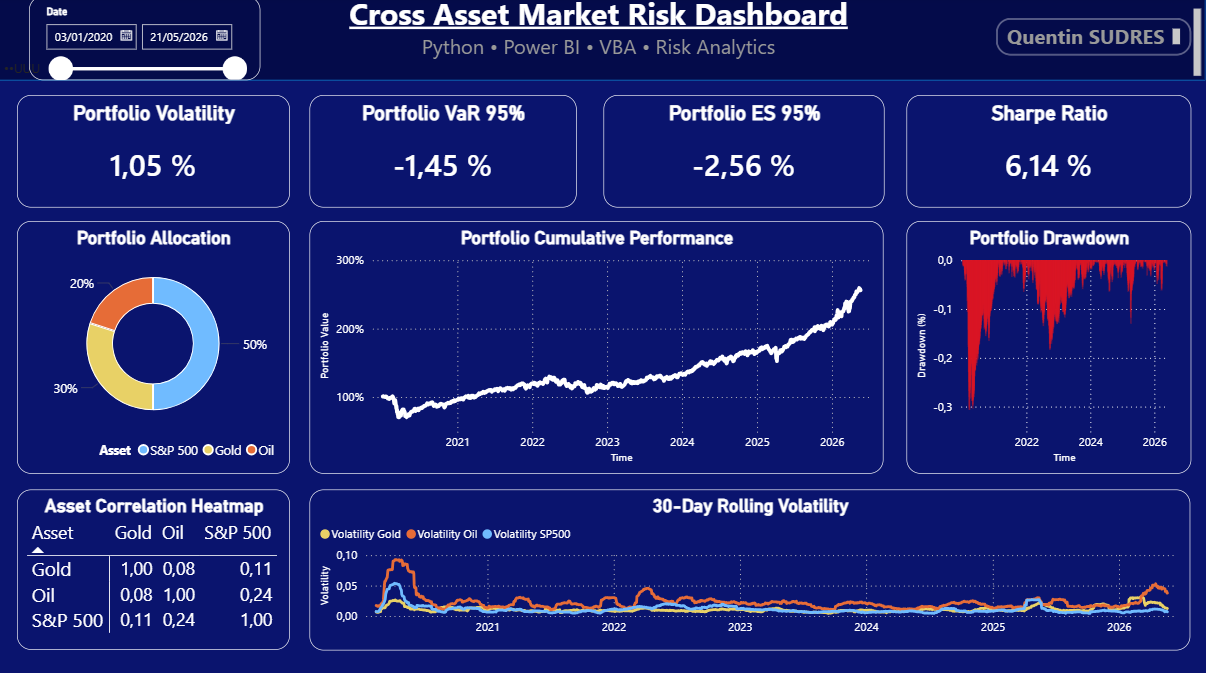

The dashboard page shown, as its layout file describes it:
{"tool":"powerbi","page":{"name":"Market Risk Dashboard","canvas":[1280,720],"ordinal":0},"visuals":[{"type":"lineChart","title":"Portfolio Cumulative Performance","fields":{"Category":["Portfolio_Cumulative.Date"],"Y":["Portfolio_Cumulative.Portfolio_Measure"]},"box":[329.9,238.4,608.8,268.2],"z":0},{"type":"shape","box":[0,0,1279.6,89.8],"z":1000},{"type":"textbox","box":[0,0,1279.6,89.8],"z":2000},{"type":"cardVisual","title":"Portfolio Volatility","fields":{"Data":["Sum(Portfolio_Metrics.Value)"]},"box":[19.2,104.3,289.5,119.2],"z":3000},{"type":"cardVisual","title":"Portfolio VaR 95%","fields":{"Data":["Sum(Portfolio_Metrics.Value)"]},"box":[329.9,104.3,283.1,119.2],"z":4000},{"type":"cardVisual","title":"Portfolio ES 95%","fields":{"Data":["Sum(Portfolio_Metrics.Value)"]},"box":[640.7,104.3,298,119.2],"z":5000},{"type":"cardVisual","title":"Sharpe Ratio","fields":{"Data":["Sum(Portfolio_Metrics.Value)"]},"box":[962.1,104.3,302.3,119.2],"z":6000},{"type":"pivotTable","title":"Asset Correlation Heatmap","fields":{"Values":["Sum(Correlations.Gold)","Sum(Correlations.Oil)","Sum(Correlations.SP500)"],"Rows":["Correlations.Actifs"],"Columns":["Correlations.Actifs"]},"box":[19.2,523.6,289.5,170.3],"z":7000},{"type":"lineChart","title":"30-Day Rolling Volatility","fields":{"Category":["Rolling_Volatility.Date"],"Y":["Sum(Rolling_Volatility.Gold)","Sum(Rolling_Volatility.Oil)","Sum(Rolling_Volatility.SP500)"]},"box":[329.5,522.7,934.1,170.5],"z":8000},{"type":"donutChart","title":"Portfolio Allocation","fields":{"Category":["Portfolio_Weights.Asset"],"Y":["Sum(Portfolio_Weights.Weight)"]},"box":[19,238,289,268],"z":8001},{"type":"clusteredColumnChart","title":"Portfolio Drawdown","fields":{"Category":["Portfolio_Drawdown.Date"],"Y":["Sum(Portfolio_Drawdown.Portfolio_Drawdown)"]},"box":[962,238,302,268],"z":8002},{"type":"slicer","fields":{"Values":["Portfolio_Cumulative.Date"]},"box":[32.5,0,245.5,89.6],"z":8003},{"type":"textbox","box":[1057.7,23.1,205.8,38.5],"z":8004}]}

Visuals, with their boxes in screenshot pixels (x1, y1, x2, y2), scaled from the page's 1280x720 canvas onto the 1206x673 screenshot:
"Portfolio Cumulative Performance" lineChart: region(311, 223, 884, 474)
shape: region(0, 0, 1205, 84)
textbox: region(0, 0, 1205, 84)
"Portfolio Volatility" cardVisual: region(18, 97, 291, 209)
"Portfolio VaR 95%" cardVisual: region(311, 97, 578, 209)
"Portfolio ES 95%" cardVisual: region(604, 97, 884, 209)
"Sharpe Ratio" cardVisual: region(906, 97, 1191, 209)
"Asset Correlation Heatmap" pivotTable: region(18, 489, 291, 649)
"30-Day Rolling Volatility" lineChart: region(310, 489, 1191, 648)
"Portfolio Allocation" donutChart: region(18, 222, 290, 473)
"Portfolio Drawdown" clusteredColumnChart: region(906, 222, 1191, 473)
slicer - Portfolio_Cumulative.Date: region(31, 0, 262, 84)
textbox: region(997, 22, 1190, 58)
